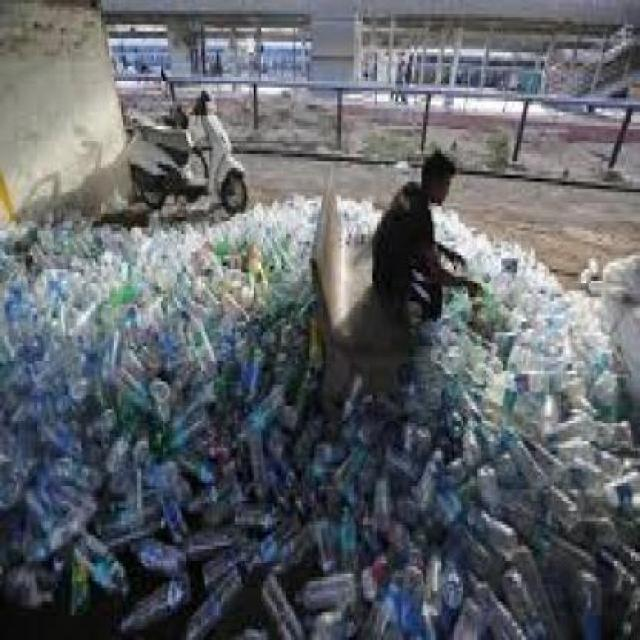garbage: (0, 231, 323, 636), (330, 374, 639, 636), (459, 225, 638, 379), (123, 195, 323, 226), (339, 195, 376, 238), (429, 203, 456, 234)
